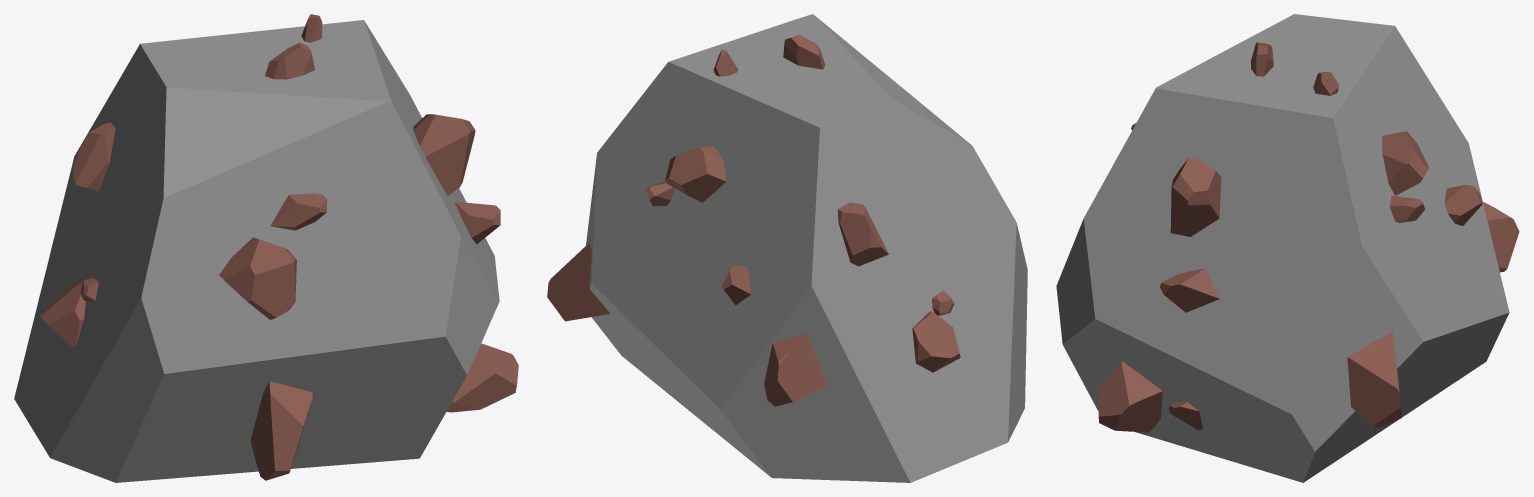
File: iron ore.fbx
3 views of the same model, side by side, from view 1: azimuth 30°, elevation 25°; view 2: azimuth 150°, elevation 25°; view 3: azimuth 270°, elevation 25° (orthographic). The views are drawn at different scales.
Parts seen in each view (by area): view 1: Iron_Ore; view 2: Iron_Ore; view 3: Iron_Ore.
Part boxes in pixels (x1,y1,x2,y2): Iron_Ore: [14, 14, 518, 482]; Iron_Ore: [547, 14, 1027, 482]; Iron_Ore: [1056, 14, 1519, 482].
Bounding box in the file's own units: 2.02 × 1.57 × 1.84.
